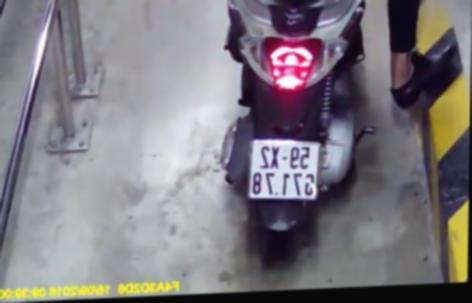License_Plate: (241, 132, 326, 210)
